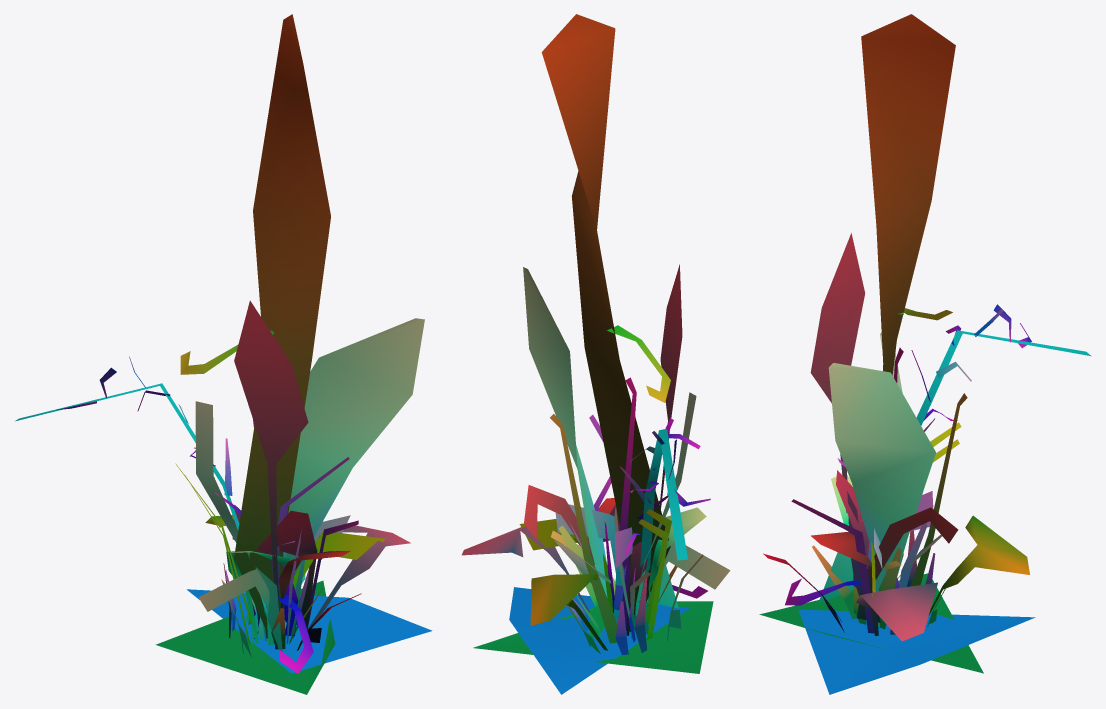
File: Dry_Grass_tbbqejqr_Mid_tbbqejqr_VarB_LOD1.fbx
The picture shows the model from 3 angles, left to right: view 1: azimuth 30°, elevation 25°; view 2: azimuth 150°, elevation 25°; view 3: azimuth 270°, elevation 25°; orthographic projection. The views are drawn at different scales.
Visible parts, largest first — view 1: _d212_VarB_LOD2; view 2: _d212_VarB_LOD2; view 3: _d212_VarB_LOD2.
Part boxes in pixels (left/top/right/bottom): _d212_VarB_LOD2: left=15, top=14, right=432, bottom=694; _d212_VarB_LOD2: left=462, top=14, right=730, bottom=694; _d212_VarB_LOD2: left=759, top=14, right=1091, bottom=694.
Size of the model in its own units: 30.72 by 59.81 by 27.92.
